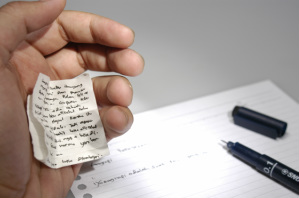Note: (29, 74, 109, 164)
